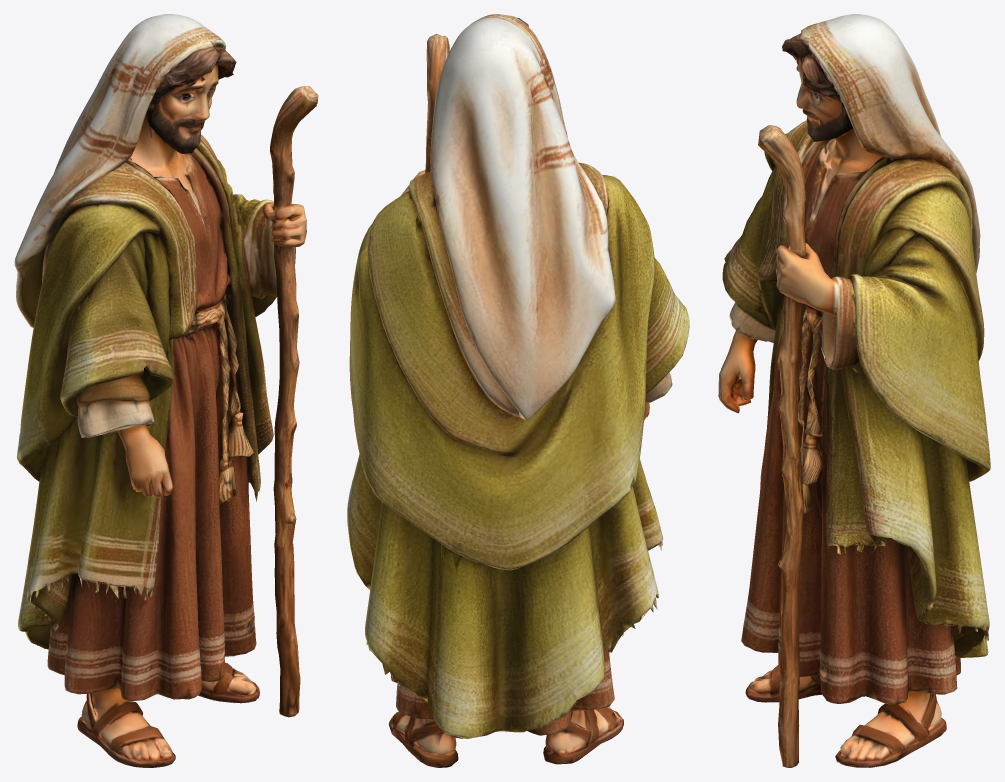
Rendered from joseph.glb.
3 renders of one model, left to right at view 1: azimuth 30°, elevation 25°; view 2: azimuth 150°, elevation 25°; view 3: azimuth 270°, elevation 25°, orthographic. The views are drawn at different scales.
Parts seen in each view (by area): view 1: tripo_node_f89e68ca-f856-4906-854e-249748e37921; view 2: tripo_node_f89e68ca-f856-4906-854e-249748e37921; view 3: tripo_node_f89e68ca-f856-4906-854e-249748e37921.
Part boxes in pixels (x1,y1,x2,y2): tripo_node_f89e68ca-f856-4906-854e-249748e37921: (14,14,318,767); tripo_node_f89e68ca-f856-4906-854e-249748e37921: (347,14,689,767); tripo_node_f89e68ca-f856-4906-854e-249748e37921: (718,14,990,767).
Size of the model in its own units: 0.4096 by 0.9784 by 0.3423.
1 material, 1 textured.
